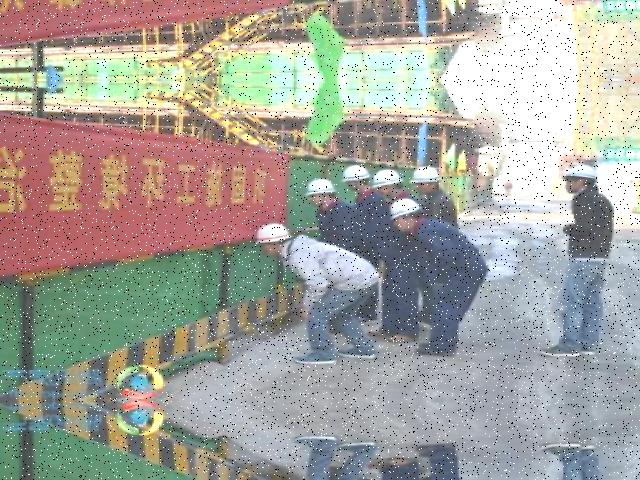Helmet: (252, 218, 298, 253), (389, 192, 428, 222), (562, 160, 606, 186), (409, 161, 450, 188), (305, 175, 344, 202), (371, 162, 407, 190), (343, 158, 378, 186)
